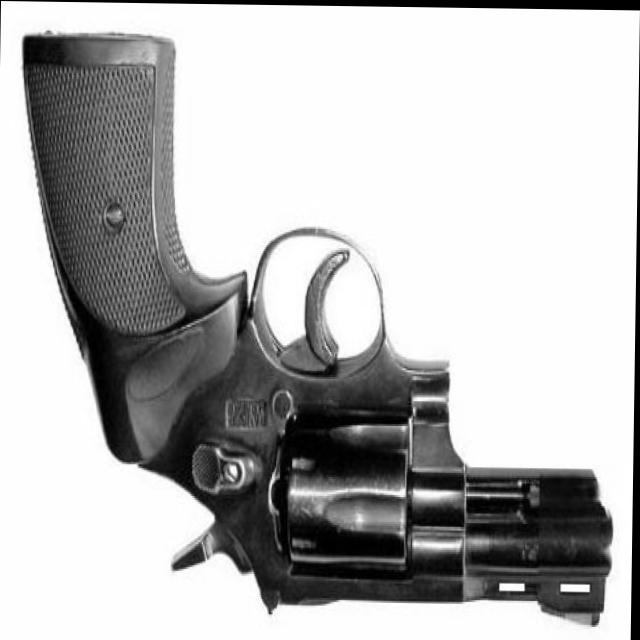handgun: (14, 35, 619, 626)
